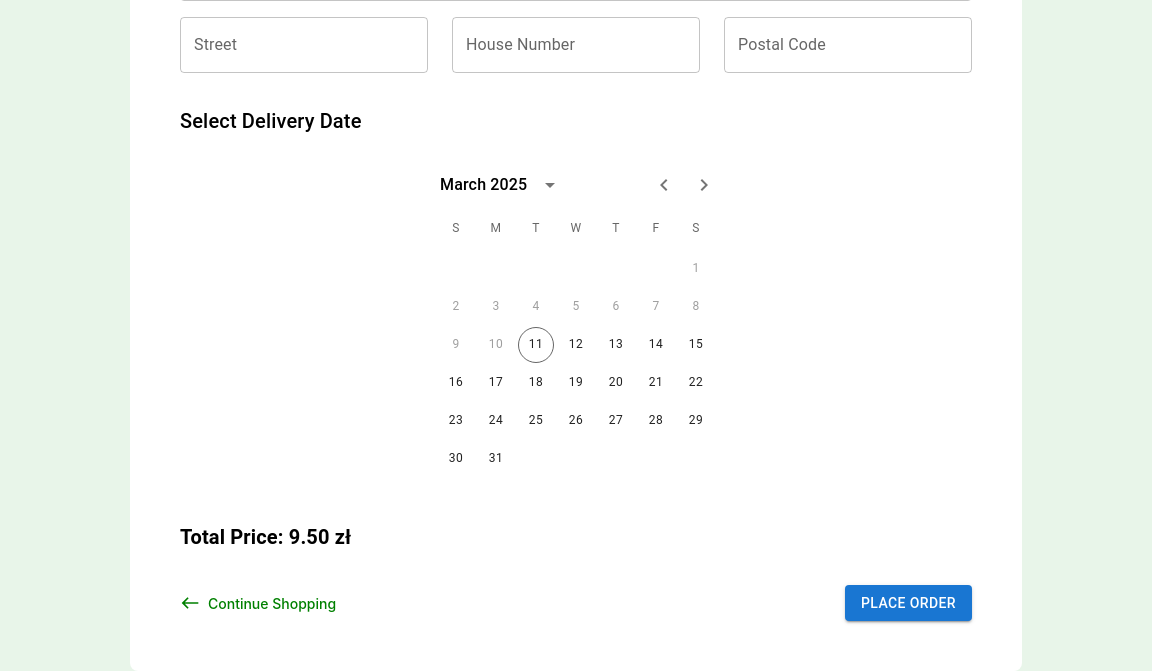
CheckoutPage › shows validation errors if fields are empty
The width and height of the screenshot is (1152, 671).
(page scrolled)
Click the button "Place Order" at [908, 603], box [845, 585, 972, 622]
(page scrolled)
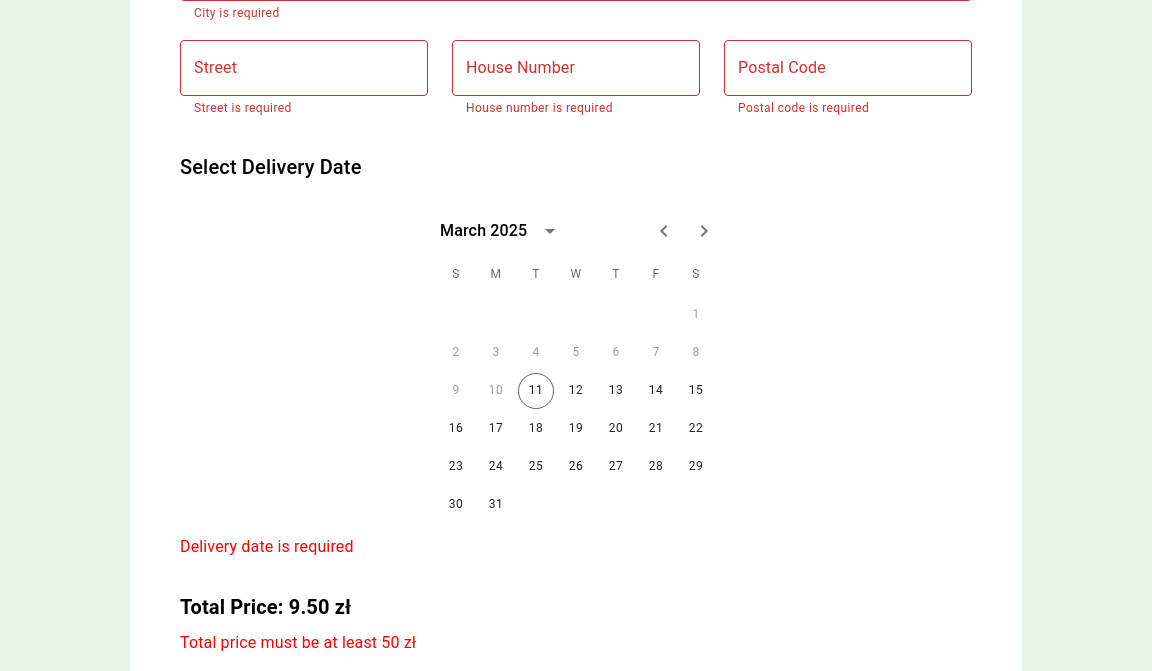
Result: the text "Street is required" is shown at [194, 101, 292, 115]
Result: the text "City is required" is shown at [194, 6, 280, 20]
Result: the text "Postal code is required" is shown at [738, 101, 869, 115]
